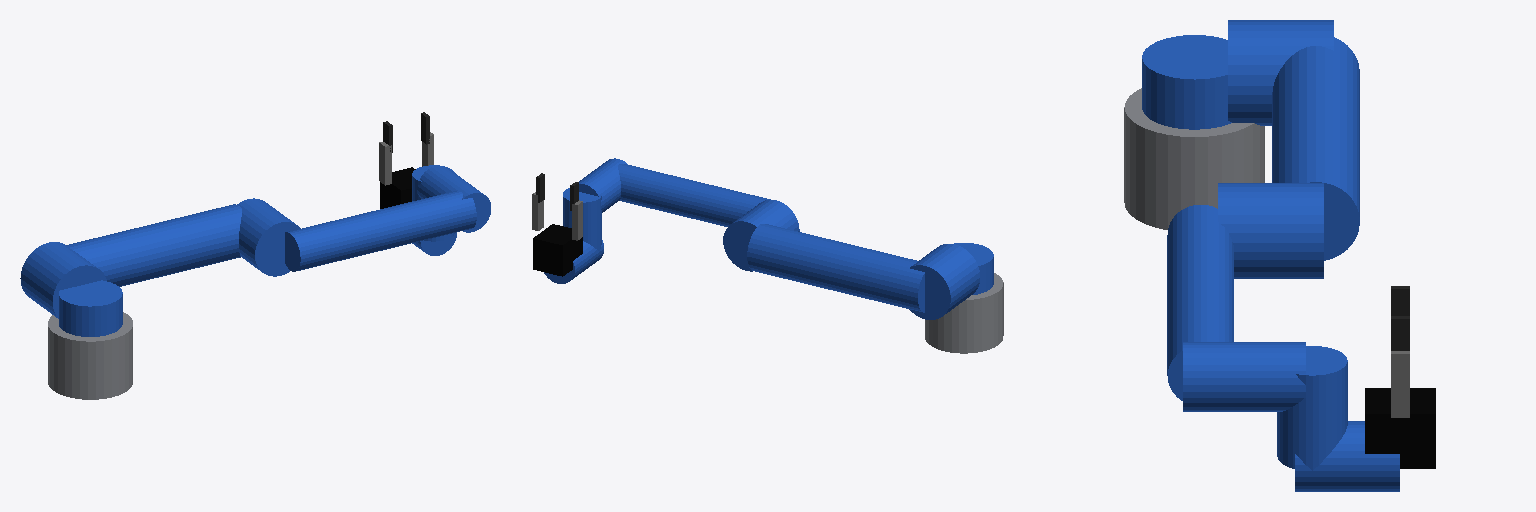
URDF robot description (maxlab_ur7e):
<?xml version='1.0' encoding='utf-8'?>
<robot name="maxlab_ur7e">
  <material name="collision_blue">
    <color rgba="0.2 0.42 0.78 0.55" />
  </material>
  <material name="base_gray">
    <color rgba="0.55 0.56 0.58 1" />
  </material>
  <material name="robotiq_black">
    <color rgba="0.05 0.05 0.05 1" />
  </material>
  <material name="robotiq_gray">
    <color rgba="0.46 0.46 0.46 1" />
  </material>
  <material name="robotiq_pad">
    <color rgba="0.18 0.18 0.18 1" />
  </material>
  <link name="base">
    <inertial>
      <mass value="4.0" />
      <origin xyz="0 0 0" rpy="0 0 0" />
      <inertia ixx="0.00443333156" ixy="0" ixz="0" iyy="0.00443333156" iyz="0" izz="0.0072" />
    </inertial>
    <visual name="base_primitive">
      <origin xyz="0 0 0.06" rpy="0 0 0" />
      <geometry>
        <cylinder radius="0.08" length="0.12" />
      </geometry>
      <material name="base_gray" />
    </visual>
    <collision name="base_primitive">
      <origin xyz="0 0 0.06" rpy="0 0 0" />
      <geometry>
        <cylinder radius="0.08" length="0.12" />
      </geometry>
    </collision>
  </link>
  <link name="shoulder_link">
    <inertial>
      <mass value="3.7" />
      <origin xyz="0 0 0" rpy="0 0 0" />
      <inertia ixx="0.0102675" ixy="0" ixz="0" iyy="0.0102675" iyz="0" izz="0.00666" />
    </inertial>
    <visual name="shoulder_collision">
      <origin xyz="0 0 -0.04" rpy="0 0 0" />
      <geometry>
        <cylinder radius="0.06" length="0.12" />
      </geometry>
      <material name="collision_blue" />
    </visual>
    <collision name="shoulder_collision">
      <origin xyz="0 0 -0.04" rpy="0 0 0" />
      <geometry>
        <cylinder radius="0.06" length="0.12" />
      </geometry>
    </collision>
  </link>
  <joint name="shoulder_pan_joint" type="revolute">
    <parent link="base" />
    <child link="shoulder_link" />
    <origin xyz="0 0 0.163" rpy="0 0 0" />
    <axis xyz="0 0 1" />
    <limit lower="-6.28319" upper="6.28319" effort="150.0" velocity="3.141592653589793" />
  </joint>
  <link name="upper_arm_link">
    <inertial>
      <mass value="8.393" />
      <origin xyz="0 0 0.2125" rpy="0 0 0" />
      <inertia ixx="0.133886" ixy="0" ixz="0" iyy="0.133886" iyz="0" izz="0.0151074" />
    </inertial>
    <visual name="upper_arm_shoulder_collision">
      <origin xyz="0 -0.04 0" rpy="1.57079633 0 0" />
      <geometry>
        <cylinder radius="0.06" length="0.12" />
      </geometry>
      <material name="collision_blue" />
    </visual>
    <collision name="upper_arm_shoulder_collision">
      <origin xyz="0 -0.04 0" rpy="1.57079633 0 0" />
      <geometry>
        <cylinder radius="0.06" length="0.12" />
      </geometry>
    </collision>
    <visual name="upper_arm_collision">
      <origin xyz="0 0 0.2" rpy="0 0 0" />
      <geometry>
        <cylinder radius="0.05" length="0.4" />
      </geometry>
      <material name="collision_blue" />
    </visual>
    <collision name="upper_arm_collision">
      <origin xyz="0 0 0.2" rpy="0 0 0" />
      <geometry>
        <cylinder radius="0.05" length="0.4" />
      </geometry>
    </collision>
  </link>
  <joint name="shoulder_lift_joint" type="revolute">
    <parent link="shoulder_link" />
    <child link="upper_arm_link" />
    <origin xyz="0 0.138 0" rpy="0 1.57079631 0" />
    <axis xyz="0 1 0" />
    <limit lower="-6.28319" upper="6.28319" effort="150.0" velocity="3.141592653589793" />
  </joint>
  <link name="forearm_link">
    <inertial>
      <mass value="2.275" />
      <origin xyz="0 0 0.196" rpy="0 0 0" />
      <inertia ixx="0.0311796" ixy="0" ixz="0" iyy="0.0311796" iyz="0" izz="0.004095" />
    </inertial>
    <visual name="forearm_elbow_collision">
      <origin xyz="0 0.08 0" rpy="1.57079633 0 0" />
      <geometry>
        <cylinder radius="0.055" length="0.12" />
      </geometry>
      <material name="collision_blue" />
    </visual>
    <collision name="forearm_elbow_collision">
      <origin xyz="0 0.08 0" rpy="1.57079633 0 0" />
      <geometry>
        <cylinder radius="0.055" length="0.12" />
      </geometry>
    </collision>
    <visual name="forearm_collision">
      <origin xyz="0 0 0.2" rpy="0 0 0" />
      <geometry>
        <cylinder radius="0.038" length="0.38" />
      </geometry>
      <material name="collision_blue" />
    </visual>
    <collision name="forearm_collision">
      <origin xyz="0 0 0.2" rpy="0 0 0" />
      <geometry>
        <cylinder radius="0.038" length="0.38" />
      </geometry>
    </collision>
  </link>
  <joint name="elbow_joint" type="revolute">
    <parent link="upper_arm_link" />
    <child link="forearm_link" />
    <origin xyz="0 -0.131 0.425" rpy="0 0 0" />
    <axis xyz="0 1 0" />
    <limit lower="-3.1415" upper="3.1415" effort="150.0" velocity="3.141592653589793" />
  </joint>
  <link name="wrist_1_link">
    <inertial>
      <mass value="1.219" />
      <origin xyz="0 0.127 0" rpy="0 0 0" />
      <inertia ixx="0.0025599" ixy="0" ixz="0" iyy="0.0025599" iyz="0" izz="0.0021942" />
    </inertial>
    <visual name="wrist_1_collision">
      <origin xyz="0 0.05 0" rpy="1.57079633 0 0" />
      <geometry>
        <cylinder radius="0.04" length="0.14" />
      </geometry>
      <material name="collision_blue" />
    </visual>
    <collision name="wrist_1_collision">
      <origin xyz="0 0.05 0" rpy="1.57079633 0 0" />
      <geometry>
        <cylinder radius="0.04" length="0.14" />
      </geometry>
    </collision>
  </link>
  <joint name="wrist_1_joint" type="revolute">
    <parent link="forearm_link" />
    <child link="wrist_1_link" />
    <origin xyz="0 0 0.392" rpy="0 1.57079631 0" />
    <axis xyz="0 1 0" />
    <limit lower="-6.28319" upper="6.28319" effort="28.0" velocity="3.141592653589793" />
  </joint>
  <link name="wrist_2_link">
    <inertial>
      <mass value="1.219" />
      <origin xyz="0 0 0.1" rpy="0 0 0" />
      <inertia ixx="0.0025599" ixy="0" ixz="0" iyy="0.0025599" iyz="0" izz="0.0021942" />
    </inertial>
    <visual name="wrist_2_collision">
      <origin xyz="0 0 0.04" rpy="0 0 0" />
      <geometry>
        <cylinder radius="0.04" length="0.12" />
      </geometry>
      <material name="collision_blue" />
    </visual>
    <collision name="wrist_2_collision">
      <origin xyz="0 0 0.04" rpy="0 0 0" />
      <geometry>
        <cylinder radius="0.04" length="0.12" />
      </geometry>
    </collision>
    <visual name="wrist_2_tip_collision">
      <origin xyz="0 0.02 0.1" rpy="1.57079633 0 0" />
      <geometry>
        <cylinder radius="0.04" length="0.08" />
      </geometry>
      <material name="collision_blue" />
    </visual>
    <collision name="wrist_2_tip_collision">
      <origin xyz="0 0.02 0.1" rpy="1.57079633 0 0" />
      <geometry>
        <cylinder radius="0.04" length="0.08" />
      </geometry>
    </collision>
  </link>
  <joint name="wrist_2_joint" type="revolute">
    <parent link="wrist_1_link" />
    <child link="wrist_2_link" />
    <origin xyz="0 0.127 0" rpy="0 0 0" />
    <axis xyz="0 0 1" />
    <limit lower="-6.28319" upper="6.28319" effort="28.0" velocity="3.141592653589793" />
  </joint>
  <link name="wrist_3_link">
    <inertial>
      <mass value="0.1889" />
      <origin xyz="0 0.0771683 0" rpy="0 0 1.57079633" />
      <inertia ixx="0.000132134" ixy="0" ixz="0" iyy="9.90863e-05" iyz="0" izz="9.90863e-05" />
    </inertial>
    <visual name="wrist_3_collision">
      <origin xyz="0 0.08 0" rpy="1.57079633 0 0" />
      <geometry>
        <cylinder radius="0.04" length="0.04" />
      </geometry>
      <material name="collision_blue" />
    </visual>
    <collision name="wrist_3_collision">
      <origin xyz="0 0.08 0" rpy="1.57079633 0 0" />
      <geometry>
        <cylinder radius="0.04" length="0.04" />
      </geometry>
    </collision>
  </link>
  <joint name="wrist_3_joint" type="revolute">
    <parent link="wrist_2_link" />
    <child link="wrist_3_link" />
    <origin xyz="0 0 0.1" rpy="0 0 0" />
    <axis xyz="0 1 0" />
    <limit lower="-6.28319" upper="6.28319" effort="28.0" velocity="3.141592653589793" />
  </joint>
  <link name="tool0">
    <inertial>
      <mass value="0.01" />
      <origin xyz="0 0 0" rpy="0 0 0" />
      <inertia ixx="0.00001" ixy="0" ixz="0" iyy="0.00001" iyz="0" izz="0.00001" />
    </inertial>
    <visual name="tool0_marker">
      <origin xyz="0 0 0" rpy="0 0 0" />
      <geometry>
        <sphere radius="0.01" />
      </geometry>
      <material name="collision_blue" />
    </visual>
    <collision name="tool0_marker">
      <origin xyz="0 0 0" rpy="0 0 0" />
      <geometry>
        <sphere radius="0.01" />
      </geometry>
    </collision>
  </link>
  <joint name="wrist_3_to_tool0" type="fixed">
    <parent link="wrist_3_link" />
    <child link="tool0" />
    <origin xyz="0 0.1 0" rpy="3.141592654 0 -1.570796327" />
  </joint>
  <link name="robotiq_base">
    <inertial>
      <mass value="0.78" />
      <origin xyz="0 0 0" rpy="0 0 0" />
      <inertia ixx="0.0006370000000000001" ixy="0" ixz="0" iyy="0.0007345" iyz="0" izz="0.0007345" />
    </inertial>
    <visual name="robotiq_base">
      <origin xyz="0 0 0" rpy="0 0 0" />
      <geometry>
        <box size="0.08 0.07 0.07" />
      </geometry>
      <material name="robotiq_black" />
    </visual>
    <collision name="robotiq_base">
      <origin xyz="0 0 0" rpy="0 0 0" />
      <geometry>
        <box size="0.08 0.07 0.07" />
      </geometry>
    </collision>
  </link>
  <joint name="tool0_to_robotiq_base" type="fixed">
    <parent link="tool0" />
    <child link="robotiq_base" />
    <origin xyz="0 0 0.035" rpy="0 0 0" />
  </joint>
  <link name="robotiq_right_finger">
    <inertial>
      <mass value="0.04" />
      <origin xyz="0 0 0" rpy="0 0 0" />
      <inertia ixx="2.1986666666666667e-05" ixy="0" ixz="0" iyy="2.2946666666666672e-05" iyz="0" izz="2.2666666666666664e-06" />
    </inertial>
    <visual name="robotiq_right_finger">
      <origin xyz="0 0 0" rpy="0 0 0" />
      <geometry>
        <box size="0.022 0.014 0.08" />
      </geometry>
      <material name="robotiq_gray" />
    </visual>
    <collision name="robotiq_right_finger">
      <origin xyz="0 0 0" rpy="0 0 0" />
      <geometry>
        <box size="0.022 0.014 0.08" />
      </geometry>
    </collision>
  </link>
  <joint name="robotiq_base_to_robotiq_right_finger" type="fixed">
    <parent link="robotiq_base" />
    <child link="robotiq_right_finger" />
    <origin xyz="0 0.046 0.078" rpy="0 0 0" />
  </joint>
  <link name="robotiq_left_finger">
    <inertial>
      <mass value="0.04" />
      <origin xyz="0 0 0" rpy="0 0 0" />
      <inertia ixx="2.1986666666666667e-05" ixy="0" ixz="0" iyy="2.2946666666666672e-05" iyz="0" izz="2.2666666666666664e-06" />
    </inertial>
    <visual name="robotiq_left_finger">
      <origin xyz="0 0 0" rpy="0 0 0" />
      <geometry>
        <box size="0.022 0.014 0.08" />
      </geometry>
      <material name="robotiq_gray" />
    </visual>
    <collision name="robotiq_left_finger">
      <origin xyz="0 0 0" rpy="0 0 0" />
      <geometry>
        <box size="0.022 0.014 0.08" />
      </geometry>
    </collision>
  </link>
  <joint name="robotiq_base_to_robotiq_left_finger" type="fixed">
    <parent link="robotiq_base" />
    <child link="robotiq_left_finger" />
    <origin xyz="0 -0.046 0.078" rpy="0 0 0" />
  </joint>
  <link name="robotiq_right_pad">
    <inertial>
      <mass value="0.004" />
      <origin xyz="0 0 0" rpy="0 0 0" />
      <inertia ixx="1.0666666666666667e-06" ixy="0" ixz="0" iyy="1.2066666666666668e-06" iyz="0" izz="1.8266666666666666e-07" />
    </inertial>
    <visual name="robotiq_right_pad">
      <origin xyz="0 0 0" rpy="0 0 0" />
      <geometry>
        <box size="0.022 0.008 0.056" />
      </geometry>
      <material name="robotiq_pad" />
    </visual>
    <collision name="robotiq_right_pad">
      <origin xyz="0 0 0" rpy="0 0 0" />
      <geometry>
        <box size="0.022 0.008 0.056" />
      </geometry>
    </collision>
  </link>
  <joint name="robotiq_right_finger_to_robotiq_right_pad" type="fixed">
    <parent link="robotiq_right_finger" />
    <child link="robotiq_right_pad" />
    <origin xyz="0 -0.006 0.052" rpy="0 0 0" />
  </joint>
  <link name="robotiq_left_pad">
    <inertial>
      <mass value="0.004" />
      <origin xyz="0 0 0" rpy="0 0 0" />
      <inertia ixx="1.0666666666666667e-06" ixy="0" ixz="0" iyy="1.2066666666666668e-06" iyz="0" izz="1.8266666666666666e-07" />
    </inertial>
    <visual name="robotiq_left_pad">
      <origin xyz="0 0 0" rpy="0 0 0" />
      <geometry>
        <box size="0.022 0.008 0.056" />
      </geometry>
      <material name="robotiq_pad" />
    </visual>
    <collision name="robotiq_left_pad">
      <origin xyz="0 0 0" rpy="0 0 0" />
      <geometry>
        <box size="0.022 0.008 0.056" />
      </geometry>
    </collision>
  </link>
  <joint name="robotiq_left_finger_to_robotiq_left_pad" type="fixed">
    <parent link="robotiq_left_finger" />
    <child link="robotiq_left_pad" />
    <origin xyz="0 0.006 0.052" rpy="0 0 0" />
  </joint>
</robot>

--- Render facts (derived) ---
3 views of the same robot in one strip: view 1: azimuth 30°, elevation 25°; view 2: azimuth 150°, elevation 25°; view 3: azimuth 270°, elevation 25° (orthographic).
Model maxlab_ur7e with 13 links and 12 joints (6 revolute, 6 fixed), rooted at base, posed every joint at zero.
Visible links, largest first — view 1: upper_arm_link, forearm_link, base, shoulder_link, wrist_1_link, robotiq_base, wrist_2_link, robotiq_left_finger; view 2: upper_arm_link, forearm_link, base, robotiq_base, wrist_2_link, wrist_1_link, shoulder_link; view 3: upper_arm_link, forearm_link, base, wrist_2_link, wrist_1_link, shoulder_link, robotiq_base, wrist_3_link, robotiq_right_finger, robotiq_right_pad, robotiq_left_pad.
Link boxes in pixels (x1=…): upper_arm_link: x1=20, y1=204, x2=241, y2=318; forearm_link: x1=237, y1=191, x2=476, y2=276; base: x1=48, y1=312, x2=132, y2=399; shoulder_link: x1=59, y1=280, x2=122, y2=336; wrist_1_link: x1=417, y1=165, x2=490, y2=232; robotiq_base: x1=380, y1=167, x2=415, y2=208; wrist_2_link: x1=412, y1=165, x2=456, y2=255; robotiq_left_finger: x1=379, y1=142, x2=391, y2=185; upper_arm_link: x1=747, y1=224, x2=979, y2=319; forearm_link: x1=618, y1=164, x2=799, y2=271; base: x1=925, y1=273, x2=1003, y2=353; robotiq_base: x1=533, y1=224, x2=582, y2=276; wrist_2_link: x1=563, y1=188, x2=603, y2=271; wrist_1_link: x1=579, y1=158, x2=627, y2=212; shoulder_link: x1=954, y1=243, x2=993, y2=294; upper_arm_link: x1=1228, y1=20, x2=1359, y2=260; forearm_link: x1=1167, y1=183, x2=1323, y2=400; base: x1=1124, y1=88, x2=1264, y2=229; wrist_2_link: x1=1277, y1=346, x2=1364, y2=491; wrist_1_link: x1=1183, y1=342, x2=1305, y2=411; shoulder_link: x1=1142, y1=35, x2=1231, y2=129; robotiq_base: x1=1365, y1=388, x2=1435, y2=468; wrist_3_link: x1=1365, y1=454, x2=1399, y2=491; robotiq_right_finger: x1=1391, y1=351, x2=1409, y2=417; robotiq_right_pad: x1=1391, y1=316, x2=1409, y2=350; robotiq_left_pad: x1=1391, y1=286, x2=1409, y2=315.
Bounding box of the posed robot: 0.95 × 0.354 × 0.256 m (x, y, z).
Geometry: primitives only (box / cylinder / sphere), no mesh files.
